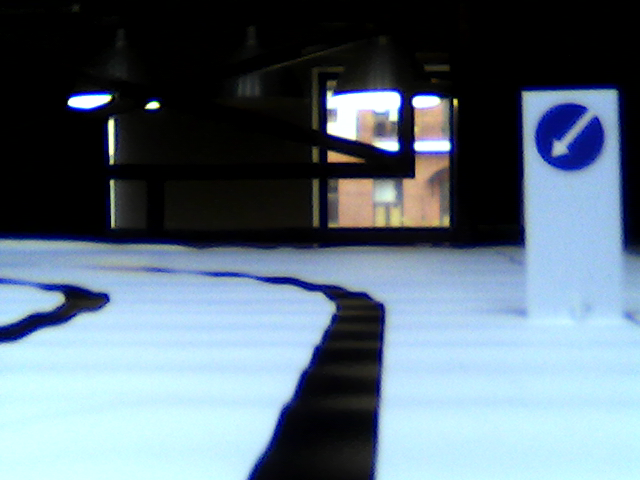prep: (535, 103, 606, 170)
